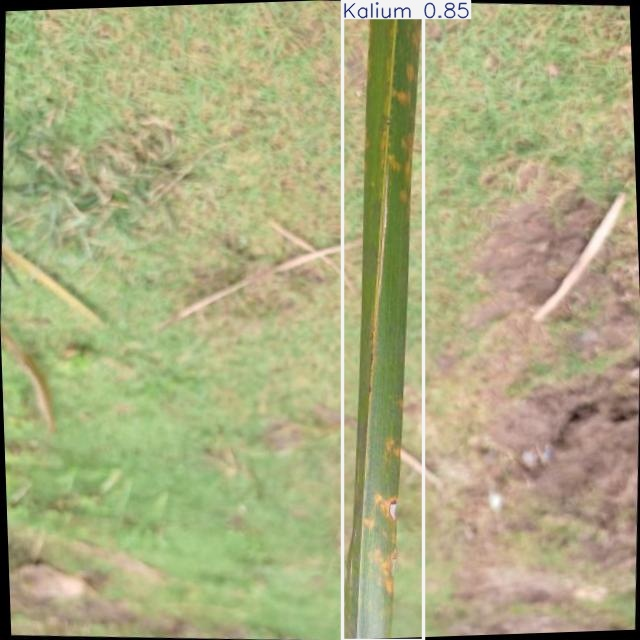Kalium: (343, 0, 423, 640)
